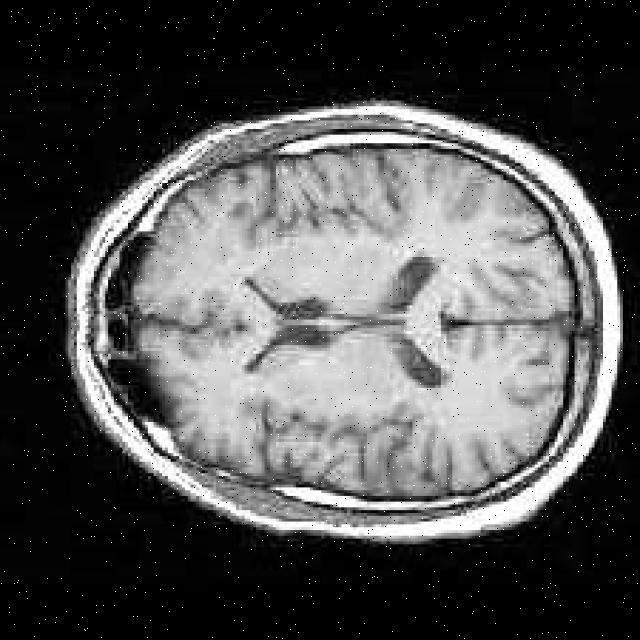No_Tumor: (67, 102, 621, 541)
